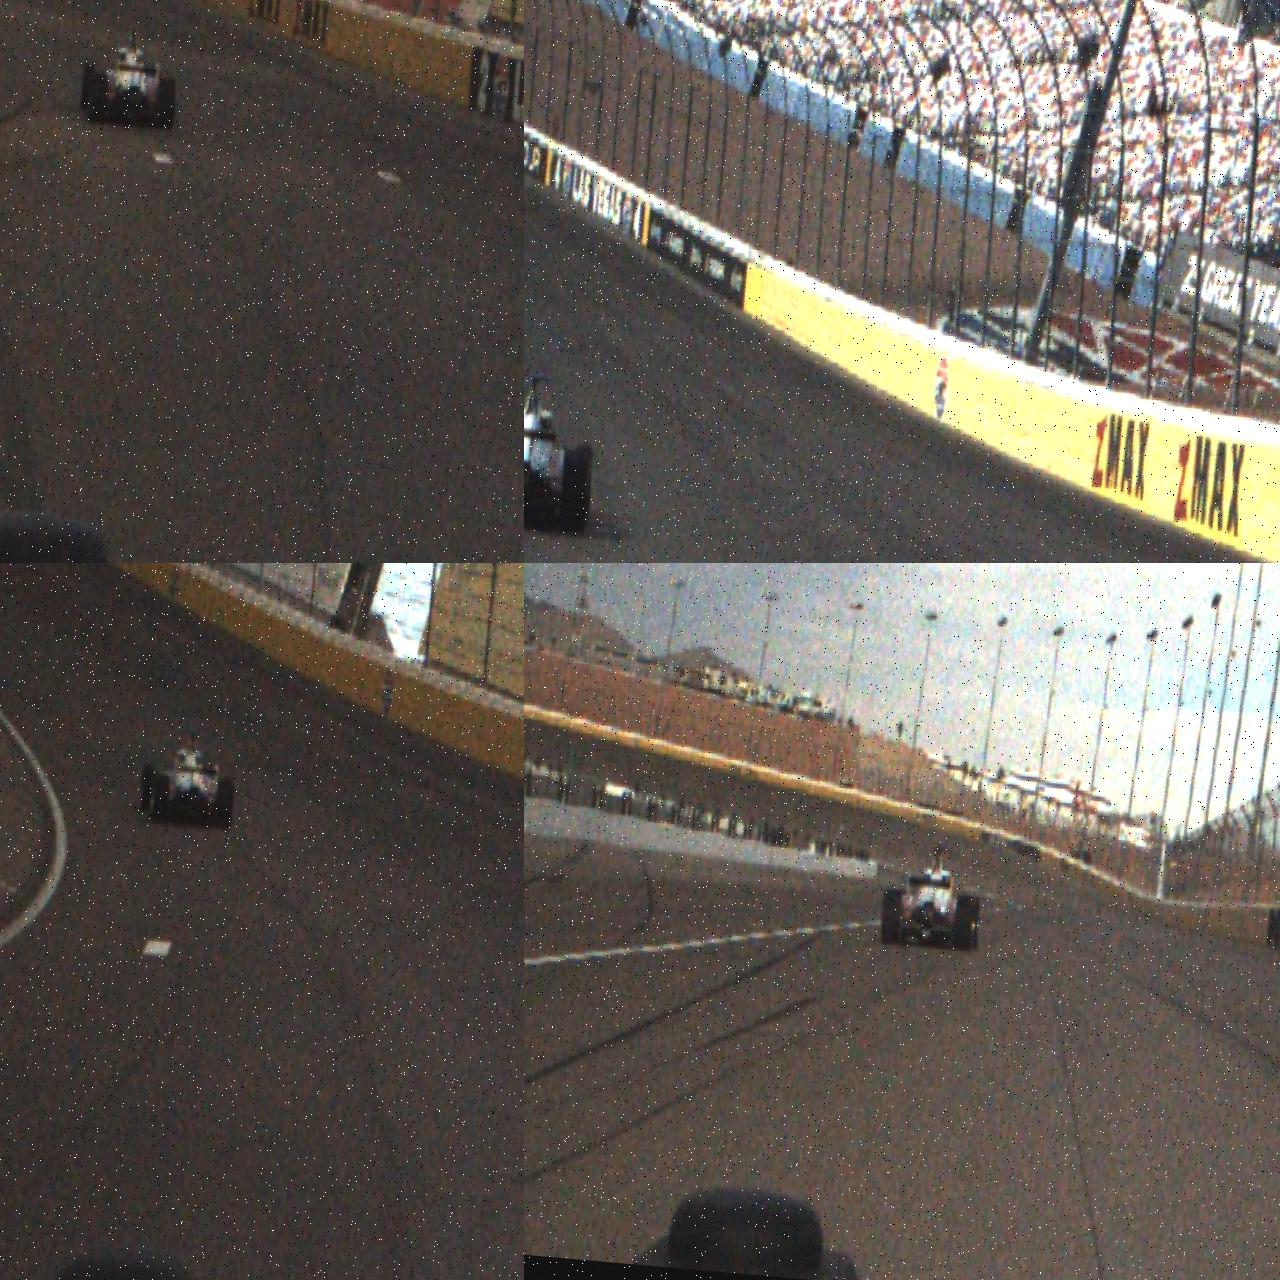AV: (524, 367, 600, 538), (878, 840, 988, 954), (77, 20, 182, 132), (137, 726, 240, 830)
Wheel: (557, 449, 594, 536), (953, 894, 977, 953), (880, 888, 904, 946), (86, 72, 110, 126), (154, 77, 177, 132), (214, 776, 237, 830), (148, 774, 170, 824), (78, 61, 96, 112), (138, 762, 156, 813)
